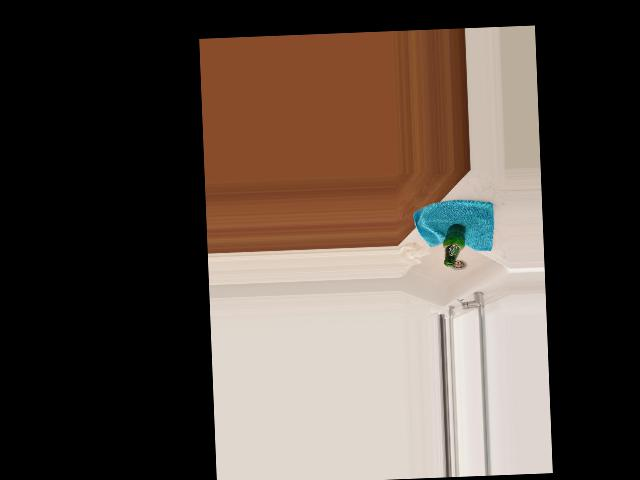beer: (441, 222, 467, 266)
